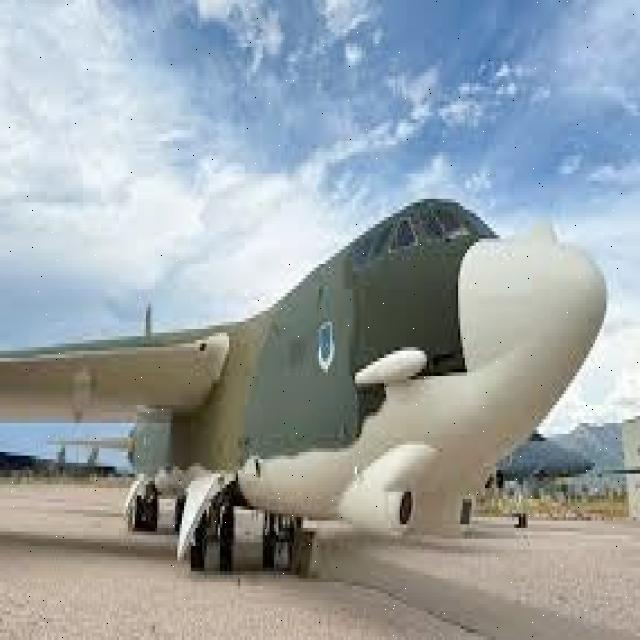B52: (0, 137, 618, 592)
